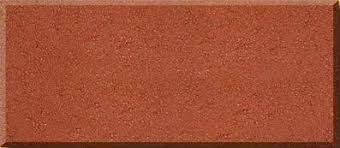brick: (1, 1, 340, 146)
